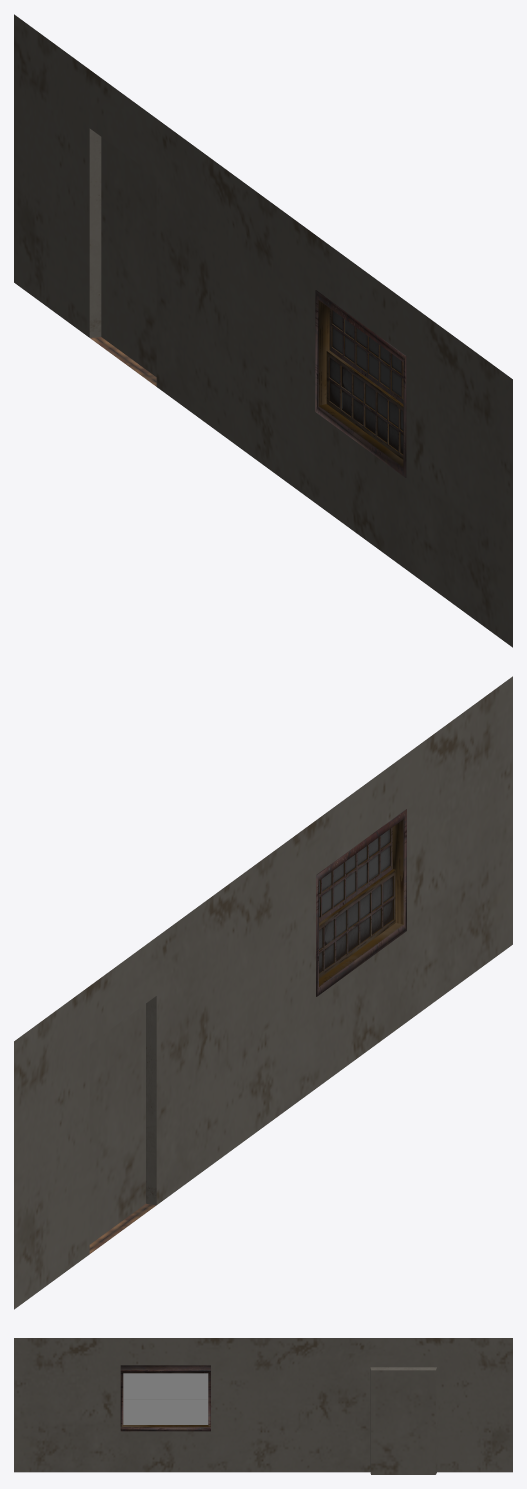
File: Front wall neighbor's house.fbx
3 renders of one model, top to bottom at view 1: azimuth 30°, elevation 25°; view 2: azimuth 150°, elevation 25°; view 3: azimuth 270°, elevation 25°, orthographic. The views are drawn at different scales.
Visible parts, largest first — view 1: Parede Sala Entrada; view 2: Parede Sala Entrada; view 3: Parede Sala Entrada.
Part boxes in pixels (x1,y1,x2,y2): Parede Sala Entrada: (14,14,512,647); Parede Sala Entrada: (14,676,512,1309); Parede Sala Entrada: (14,1338,512,1474).
Size of the model in its own units: 24.66 by 300 by 1011.
